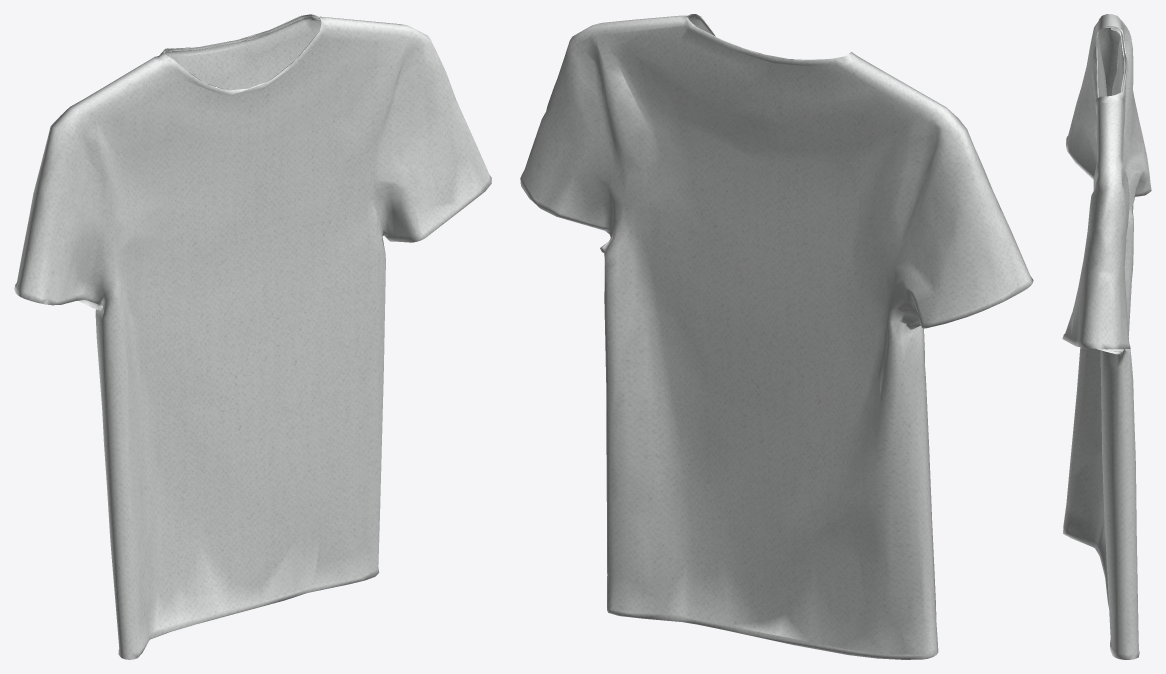
File: Shirt hanger 4.fbx
The picture shows the model from 3 angles, left to right: view 1: azimuth 30°, elevation 25°; view 2: azimuth 150°, elevation 25°; view 3: azimuth 270°, elevation 25°; orthographic projection. The views are drawn at different scales.
Parts seen in each view (by area): view 1: Shirt hanger 4; view 2: Shirt hanger 4; view 3: Shirt hanger 4.
Boxes of the visible parts, x1=… form: Shirt hanger 4: x1=14, y1=14, x2=491, y2=659; Shirt hanger 4: x1=520, y1=14, x2=1033, y2=659; Shirt hanger 4: x1=1062, y1=14, x2=1151, y2=659.
Bounding box in the file's own units: 58.21 × 67.61 × 10.2.
Materials: 1 (1 with a texture image).
